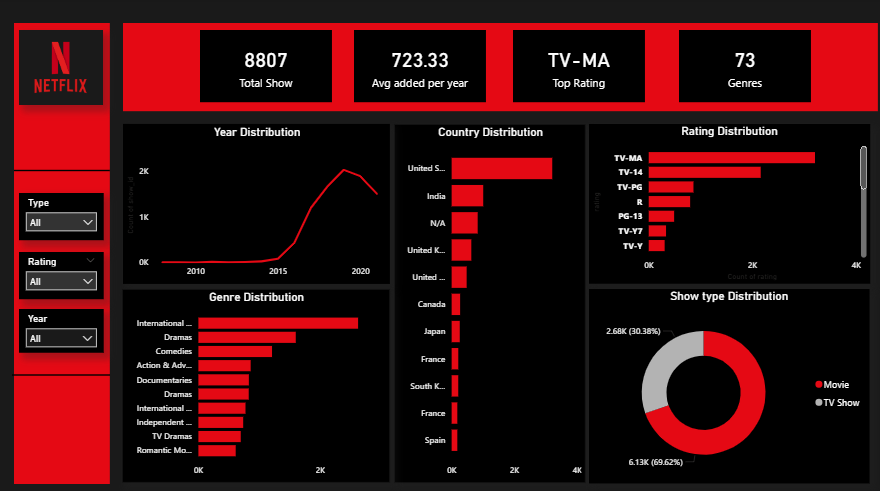

The dashboard page shown, as its layout file describes it:
{"tool":"powerbi","page":{"name":"Page 1","canvas":[1280,720],"ordinal":0},"visuals":[{"type":"shape","box":[27.4,36,138.2,663.8],"z":0},{"type":"shape","box":[183.6,36.4,1087.3,127.3],"z":1000},{"type":"card","fields":{"Values":["MEASURE.Avg added per year"]},"box":[516.9,46.6,190.1,103.7],"z":2000},{"type":"clusteredBarChart","title":"Country Distribution","fields":{"Category":["COUNTRY.country"],"Y":["CountNonNull(COUNTRY.country)"]},"box":[574.6,181.4,276.5,517],"z":3000},{"type":"lineChart","title":"Year Distribution","fields":{"Category":["netflix_titles.date_added.Variation.Date Hierarchy.Year"],"Y":["CountNonNull(netflix_titles.show_id)"]},"box":[184.3,181.4,384.5,230.4],"z":4000},{"type":"barChart","title":"Rating Distribution","fields":{"Category":["netflix_titles.rating"],"Y":["CountNonNull(netflix_titles.rating)"]},"box":[855.4,181.3,404.6,230.4],"z":5000},{"type":"slicer","fields":{"Values":["netflix_titles.type"]},"box":[35.1,280.3,122.4,68.4],"z":6000},{"type":"barChart","title":"Genre Distribution","fields":{"Y":["CountNonNull(GENRE.show_id)"],"Category":["GENRE.listed_in"]},"box":[182.9,419,385.9,279.4],"z":7000},{"type":"donutChart","title":"Show type Distribution","fields":{"Y":["CountNonNull(netflix_titles.show_id)"],"Category":["netflix_titles.type"]},"box":[855.4,419,404,280],"z":8000},{"type":"slicer","fields":{"Values":["netflix_titles.rating"]},"box":[35.1,365.8,122.4,68.4],"z":9000},{"type":"slicer","fields":{"Values":["netflix_titles.date_added.Variation.Date Hierarchy.Year"]},"box":[34.6,447.4,121.7,63.3],"z":10000},{"type":"image","box":[34.6,46.6,121,108],"z":11000},{"type":"card","fields":{"Values":["CountNonNull(netflix_titles.show_id)"]},"box":[295.2,46.6,190.1,103.7],"z":12000},{"type":"card","fields":{"Values":["Count(GENRE.listed_in)"]},"box":[984.9,46.6,190.1,103.7],"z":13000},{"type":"card","fields":{"Values":["Min(netflix_titles.rating)"]},"box":[745.9,46.6,190.1,103.7],"z":14000},{"type":"shape","box":[24.5,535.7,141.1,14.4],"z":16000},{"type":"shape","box":[27.4,240.5,138.2,15.8],"z":17000}]}

Visuals, with their boxes in screenshot pixels (x1, y1, x2, y2), scaled from the page's 1280x720 canvas onto the 880x491 screenshot:
shape: [x1=19, y1=25, x2=114, y2=477]
shape: [x1=126, y1=25, x2=874, y2=112]
card - MEASURE.Avg added per year: [x1=355, y1=32, x2=486, y2=102]
"Country Distribution" clusteredBarChart: [x1=395, y1=124, x2=585, y2=476]
"Year Distribution" lineChart: [x1=127, y1=124, x2=391, y2=281]
"Rating Distribution" barChart: [x1=588, y1=124, x2=866, y2=281]
slicer - netflix_titles.type: [x1=24, y1=191, x2=108, y2=238]
"Genre Distribution" barChart: [x1=126, y1=286, x2=391, y2=476]
"Show type Distribution" donutChart: [x1=588, y1=286, x2=866, y2=477]
slicer - netflix_titles.rating: [x1=24, y1=249, x2=108, y2=296]
slicer - netflix_titles.date_added.Variation.Date Hierarchy.Year: [x1=24, y1=305, x2=107, y2=348]
image: [x1=24, y1=32, x2=107, y2=105]
card - CountNonNull(netflix_titles.show_id): [x1=203, y1=32, x2=334, y2=102]
card - Count(GENRE.listed_in): [x1=677, y1=32, x2=808, y2=102]
card - Min(netflix_titles.rating): [x1=513, y1=32, x2=644, y2=102]
shape: [x1=17, y1=365, x2=114, y2=375]
shape: [x1=19, y1=164, x2=114, y2=175]
